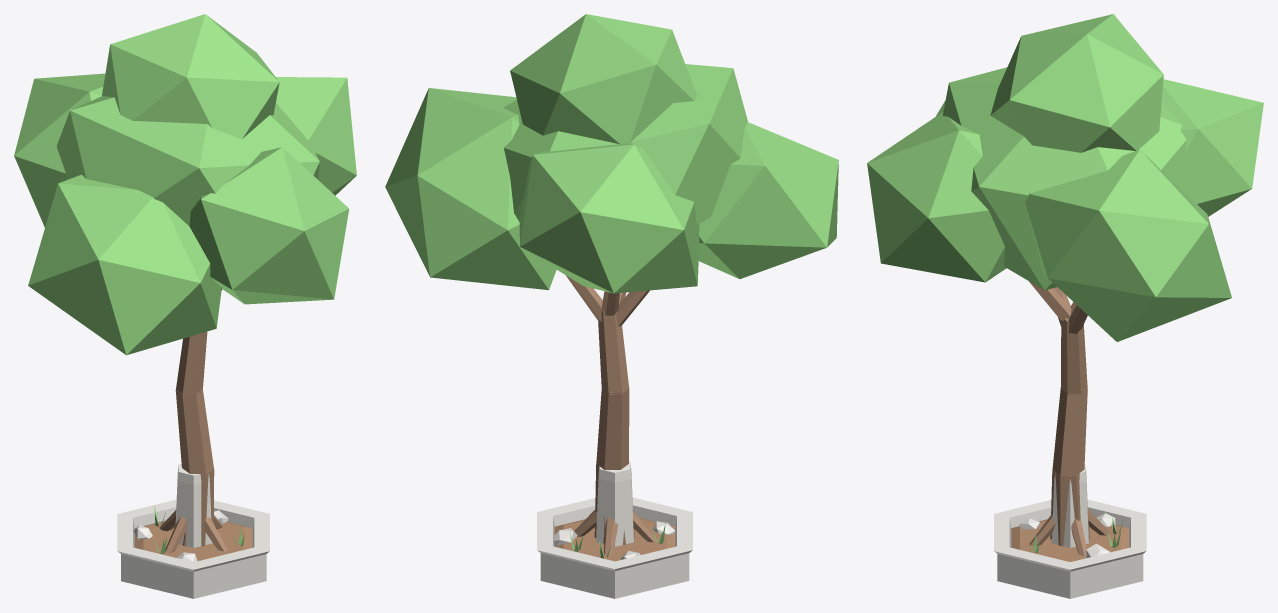
File: SM_Hanoi_StreetTree.fbx
The picture shows the model from 3 angles, left to right: view 1: azimuth 30°, elevation 25°; view 2: azimuth 150°, elevation 25°; view 3: azimuth 270°, elevation 25°; orthographic projection. The views are drawn at different scales.
Parts seen in each view (by area): view 1: TreeCanopy_W, TreeCanopy_S, TreeCanopy_Main, TreeCanopy_Crown, TreePlanter_Stone, TreeCanopy_N, TreeCanopy_E, Trunk_Seg_1, TreePlanter_Soil, Trunk_LimeBand, Trunk_Seg_2, Trunk_Seg_0; view 2: TreeCanopy_E, TreeCanopy_N, TreeCanopy_Crown, TreeCanopy_W, TreeCanopy_Main, TreePlanter_Stone, Trunk_LimeBand, Trunk_Seg_1, Trunk_Seg_2, TreePlanter_Soil; view 3: TreeCanopy_E, TreeCanopy_Crown, TreeCanopy_S, TreeCanopy_Main, TreeCanopy_N, TreePlanter_Stone, Trunk_Seg_1, TreePlanter_Soil, Trunk_Seg_2, Trunk_LimeBand, Trunk_Seg_0, Branch_2_A.
Part boxes in pixels (x1,y1,x2,y2): TreeCanopy_W: (28,174,221,355); TreeCanopy_S: (189,147,349,304); TreeCanopy_Main: (56,96,319,226); TreeCanopy_Crown: (102,14,279,139); TreePlanter_Stone: (117,499,269,598); TreeCanopy_N: (14,73,105,227); TreeCanopy_E: (276,77,356,195); Trunk_Seg_1: (175,389,213,474); TreePlanter_Soil: (134,520,252,561); Trunk_LimeBand: (175,464,212,547); Trunk_Seg_2: (176,331,207,395); Trunk_Seg_0: (183,469,214,546); TreeCanopy_E: (385,88,556,290); TreeCanopy_N: (519,143,699,293); TreeCanopy_Crown: (510,14,697,144); TreeCanopy_W: (698,122,838,278); TreeCanopy_Main: (503,64,747,224); TreePlanter_Stone: (537,497,692,598); Trunk_LimeBand: (596,461,633,546); Trunk_Seg_1: (596,387,629,469); Trunk_Seg_2: (598,310,628,395); TreePlanter_Soil: (554,518,675,561); TreeCanopy_E: (1025,149,1231,341); TreeCanopy_Crown: (990,14,1163,152); TreeCanopy_S: (867,112,1006,282); TreeCanopy_Main: (942,67,1192,290); TreeCanopy_N: (1161,79,1263,216); TreePlanter_Stone: (994,499,1146,598); Trunk_Seg_1: (1052,387,1087,476); TreePlanter_Soil: (1011,519,1129,561); Trunk_Seg_2: (1060,318,1087,394); Trunk_LimeBand: (1051,464,1088,547); Trunk_Seg_0: (1050,470,1089,546); Branch_2_A: (1029,281,1071,320).
Size of the model in its own units: 4.26 by 5.94 by 3.96.
